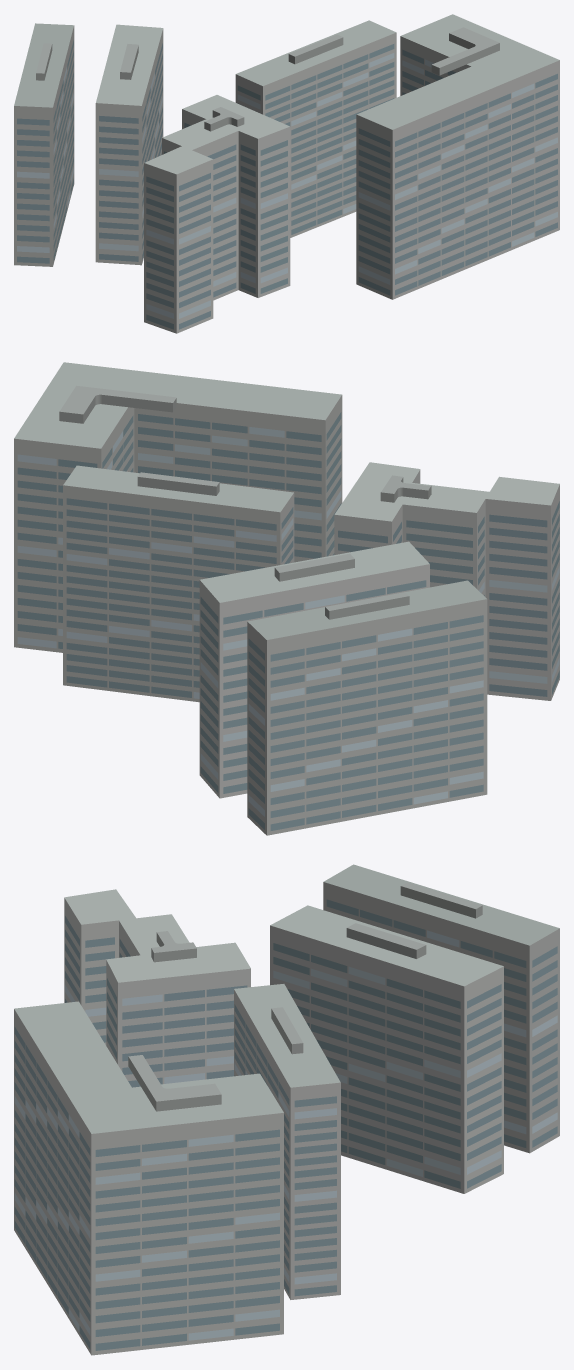
Rendered from apt-a13905102.glb.
The picture shows the model from 3 angles, top to bottom: view 1: azimuth 30°, elevation 25°; view 2: azimuth 150°, elevation 25°; view 3: azimuth 270°, elevation 25°; orthographic projection. The views are drawn at different scales.
Visible parts, largest first — view 1: apt-a13905102; view 2: apt-a13905102; view 3: apt-a13905102.
Part boxes in pixels (x1,y1,x2,y2): apt-a13905102: (14,14,559,333); apt-a13905102: (14,362,559,835); apt-a13905102: (14,864,559,1355).
Size of the model in its own units: 134 by 51 by 109.
